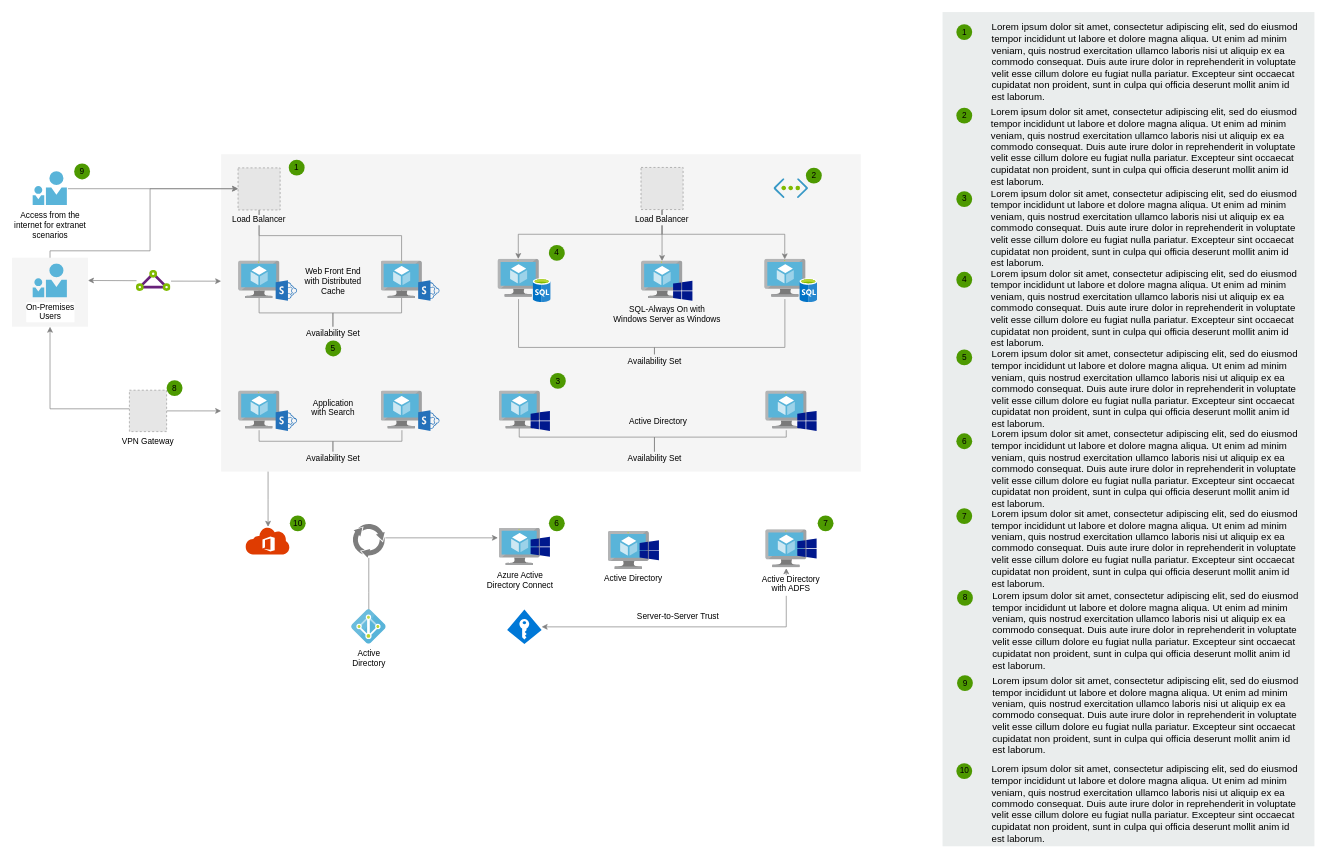
The diagram is 1326 pixels wide and 858 high, and some of its shapes have lost their labels. Grey dashed boxes stand in for pictures. Here are the shapes that lost their labels. From the top down, the centre of each, then its label:
point 790,188: Virtual Network
point 153,280: Express Route
point 267,540: Office 365
point 368,540: Synchronize Identities
point 524,626: Azure Access Control Service
